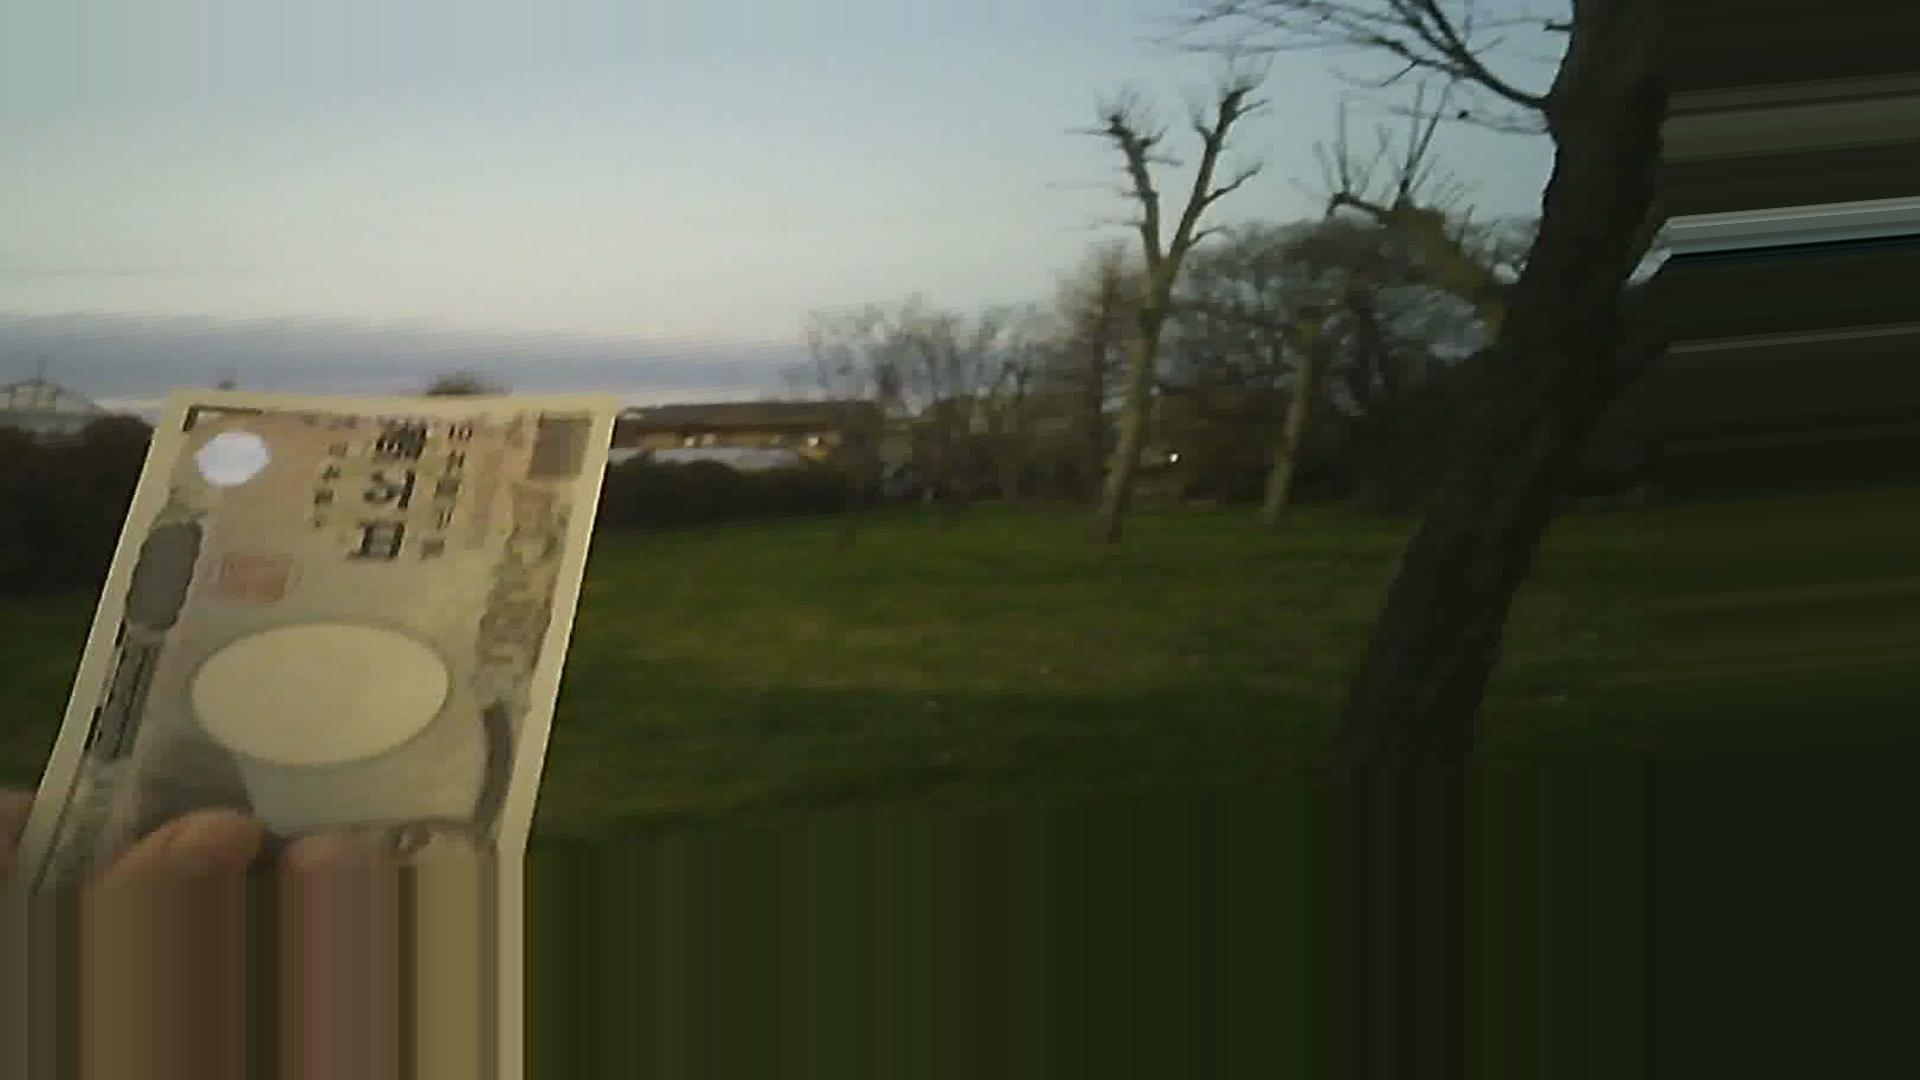10,000 Yen: (65, 371, 600, 843)
